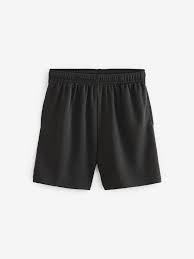short: (29, 56, 170, 193)
